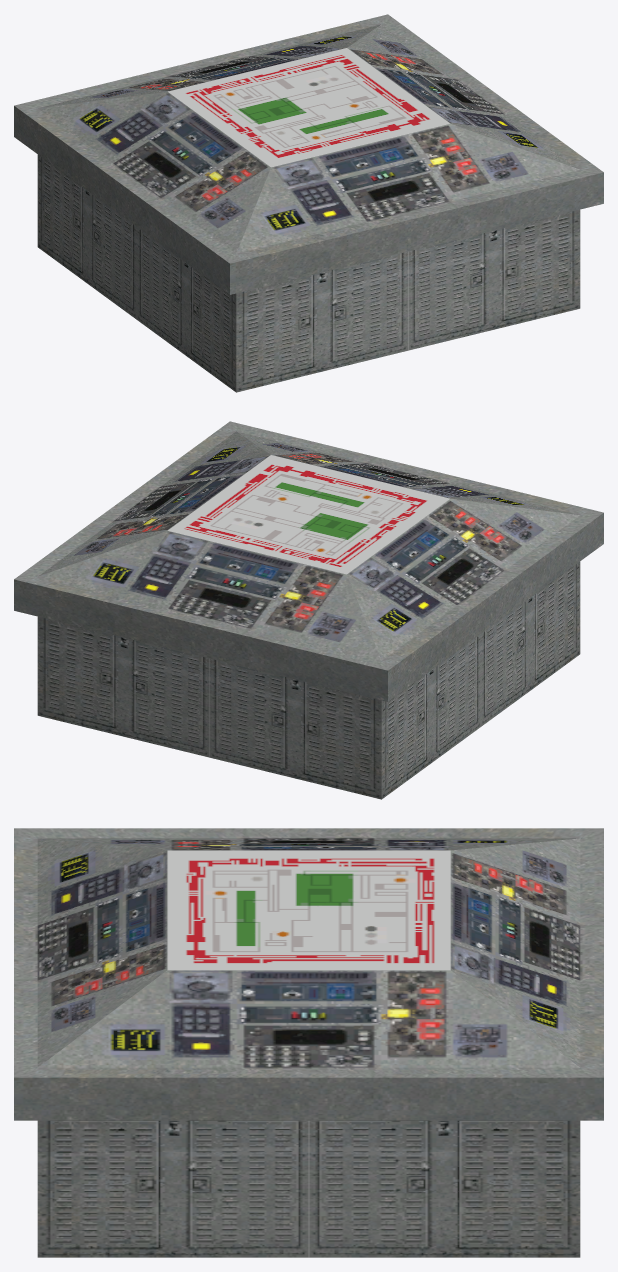
The model's file is frn_tech_console_table_l2.fbx.
The picture shows the model from 3 angles, top to bottom: view 1: azimuth 30°, elevation 25°; view 2: azimuth 150°, elevation 25°; view 3: azimuth 270°, elevation 25°; orthographic projection. The views are drawn at different scales.
Parts seen in each view (by area): view 1: mesh_node; view 2: mesh_node; view 3: mesh_node.
Boxes of the visible parts, box(x1,y1,x2,y2) form: mesh_node: box(14, 14, 603, 392); mesh_node: box(14, 421, 603, 799); mesh_node: box(14, 828, 603, 1257).
Bounding box in the file's own units: 2.5 × 1.09 × 2.5.
